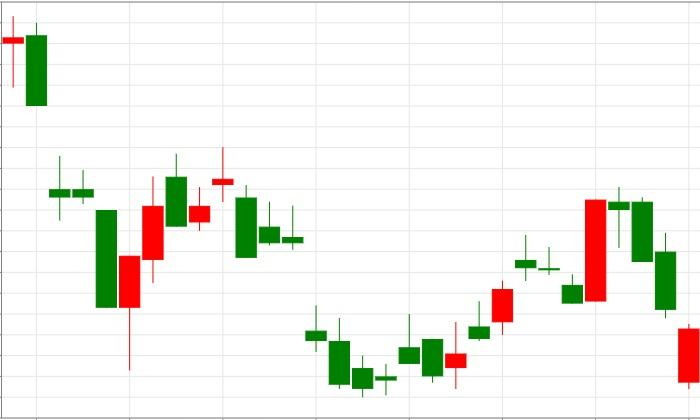evening_star_fall: (119, 147, 256, 371)
